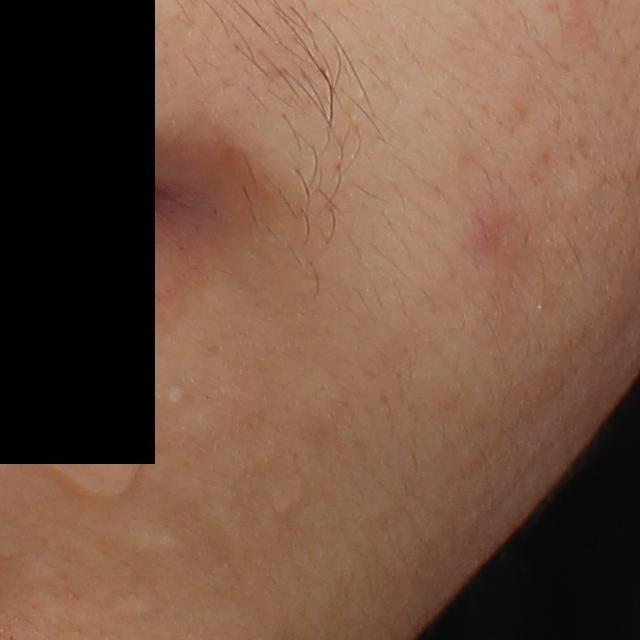comedo: (166, 382, 184, 404)
hypertrophic_scar: (112, 592, 162, 621), (150, 530, 184, 556)
